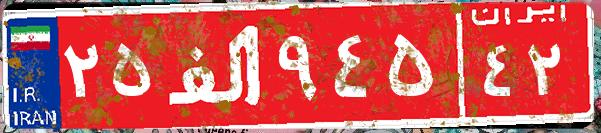2: (57, 26, 110, 107), (525, 38, 570, 115)
4: (330, 28, 385, 110), (475, 38, 525, 113)
5: (385, 28, 445, 110), (110, 28, 158, 105)
9: (273, 28, 330, 110)
الف: (158, 15, 273, 115)
